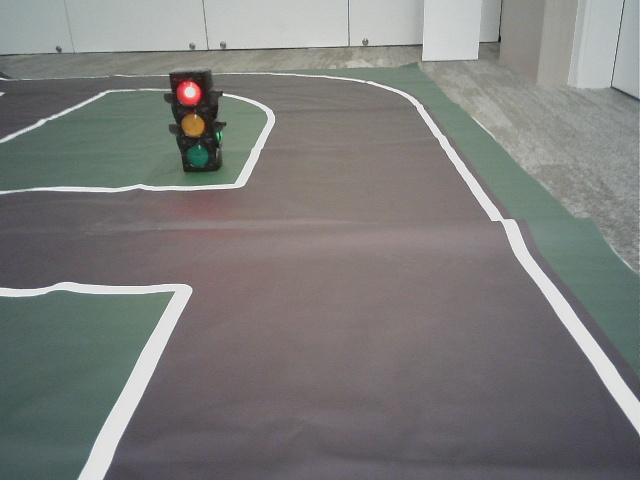red: (176, 75, 212, 169)
